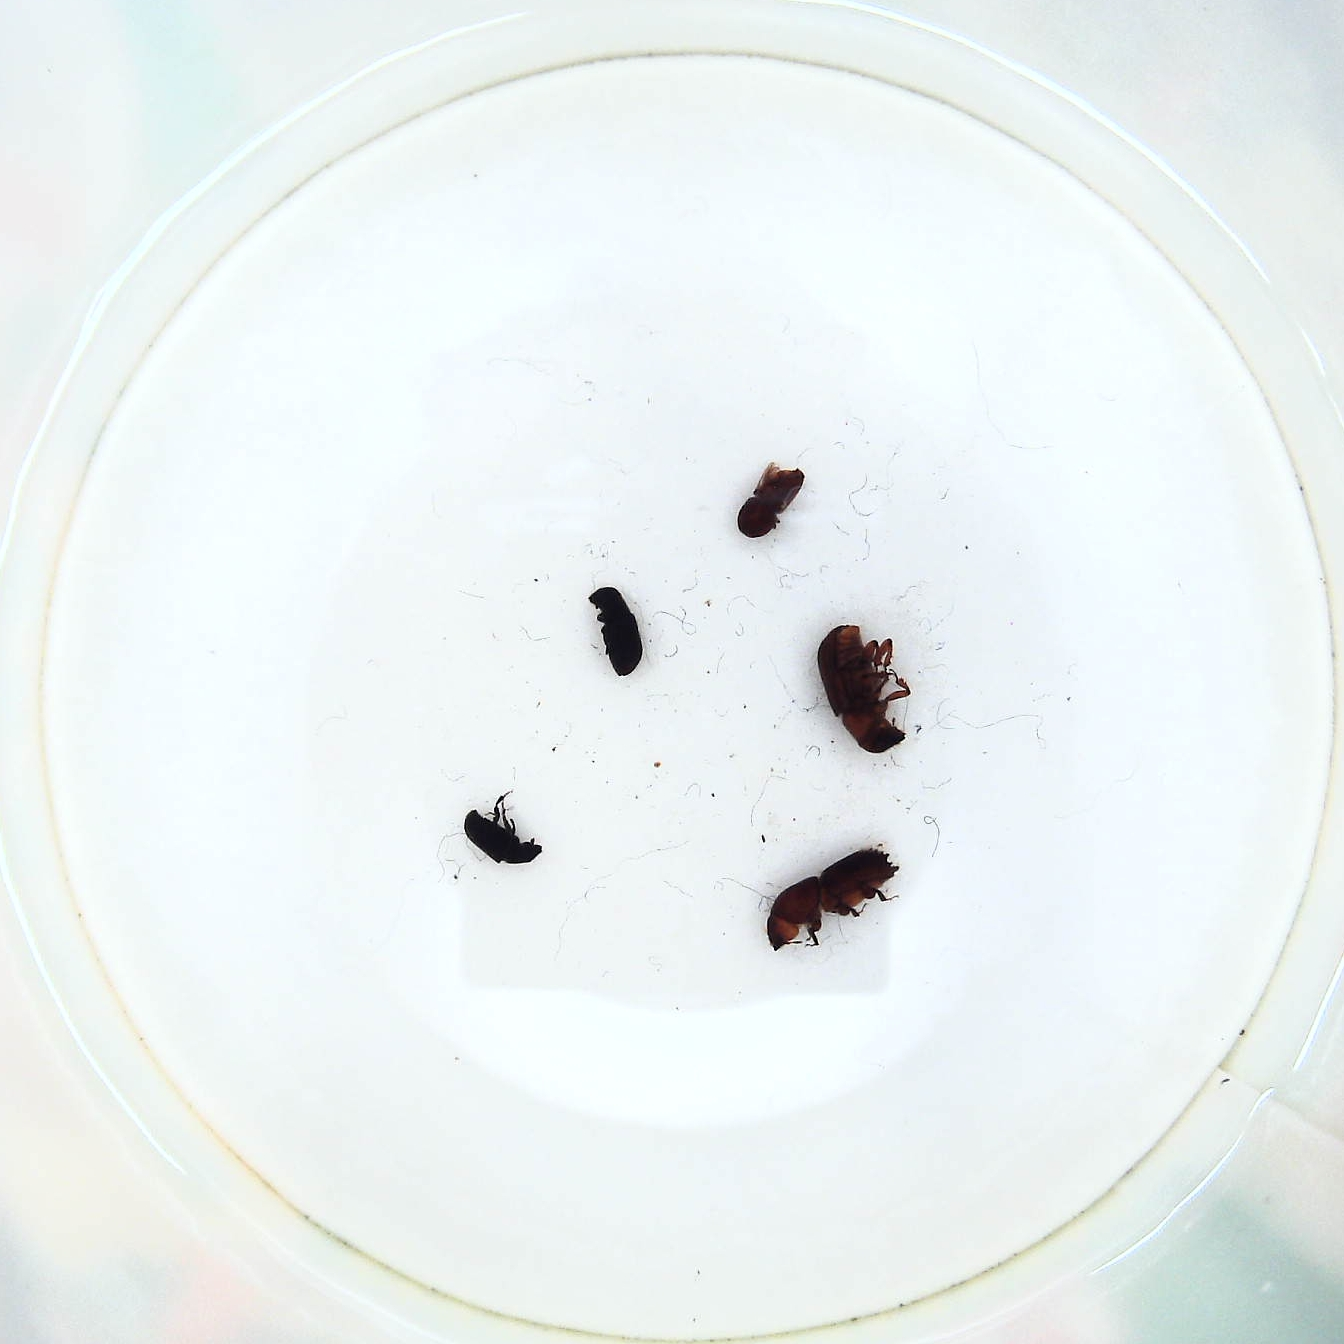Boerner: (766, 843, 905, 955)
Leconte: (814, 618, 910, 761)
armandi: (581, 583, 644, 679)
coleoptera: (460, 790, 542, 869)
linnaeus: (736, 462, 805, 543)
